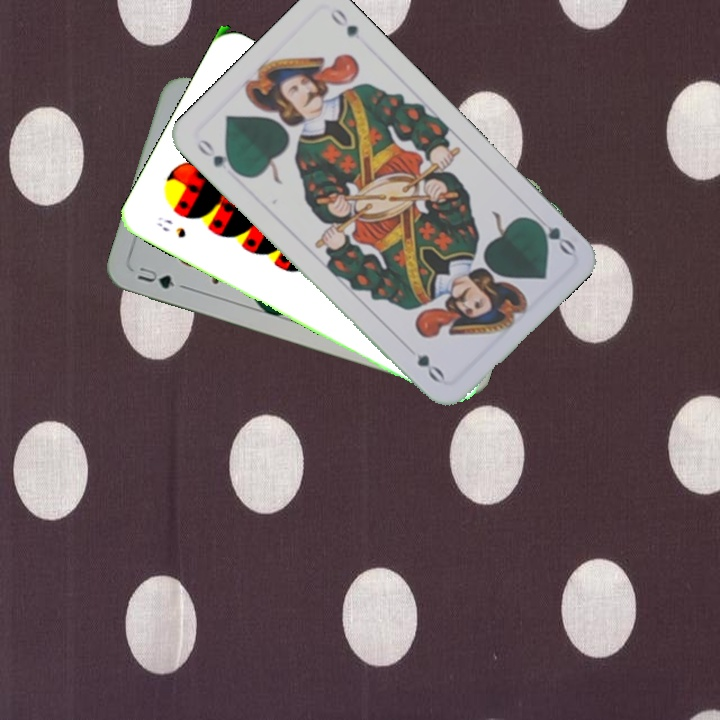GO: (526, 214, 578, 258), (192, 135, 242, 177)
GU: (133, 263, 177, 292)
S8: (153, 212, 189, 241)
